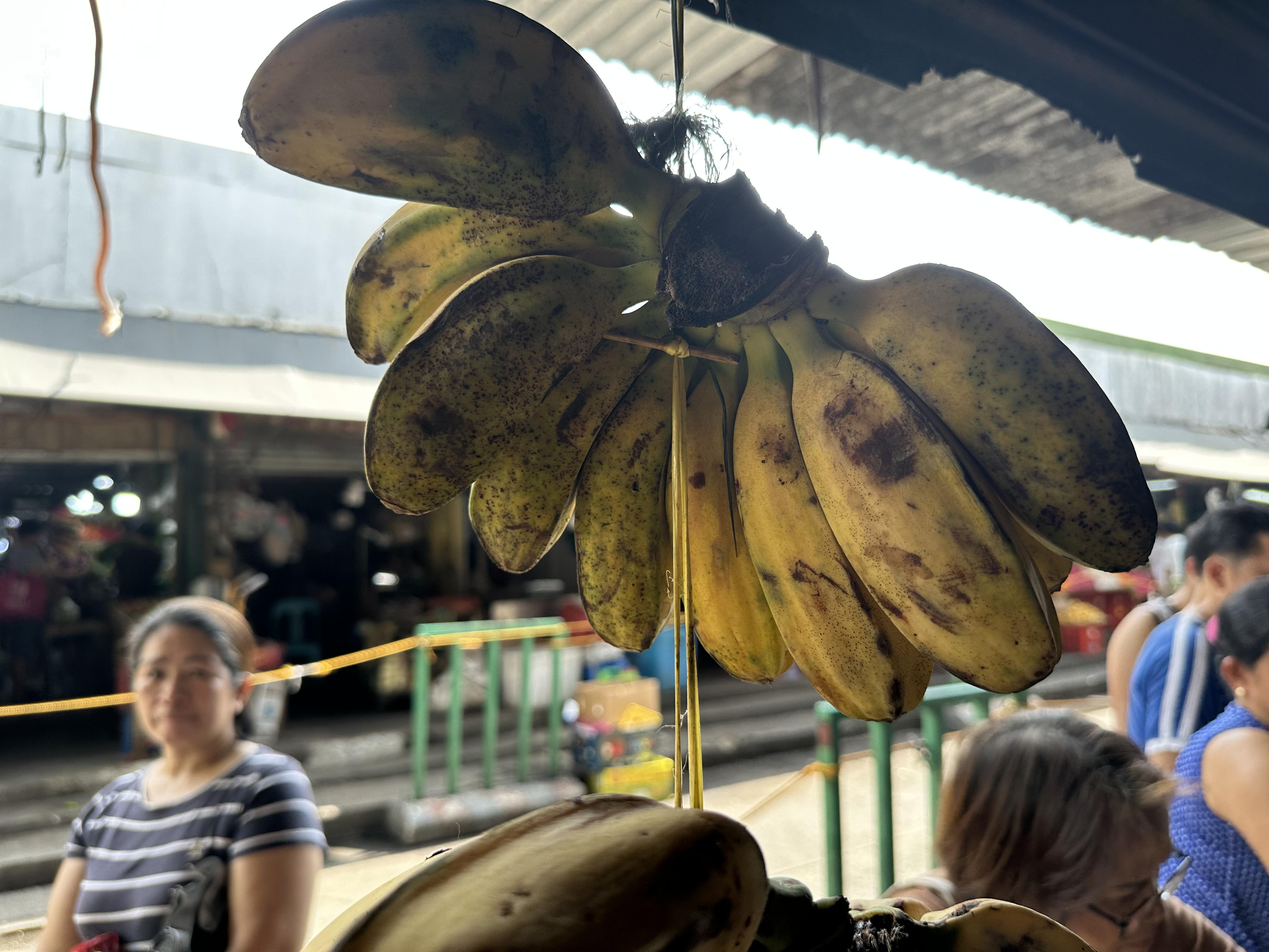underripe: (240, 3, 1155, 720)
